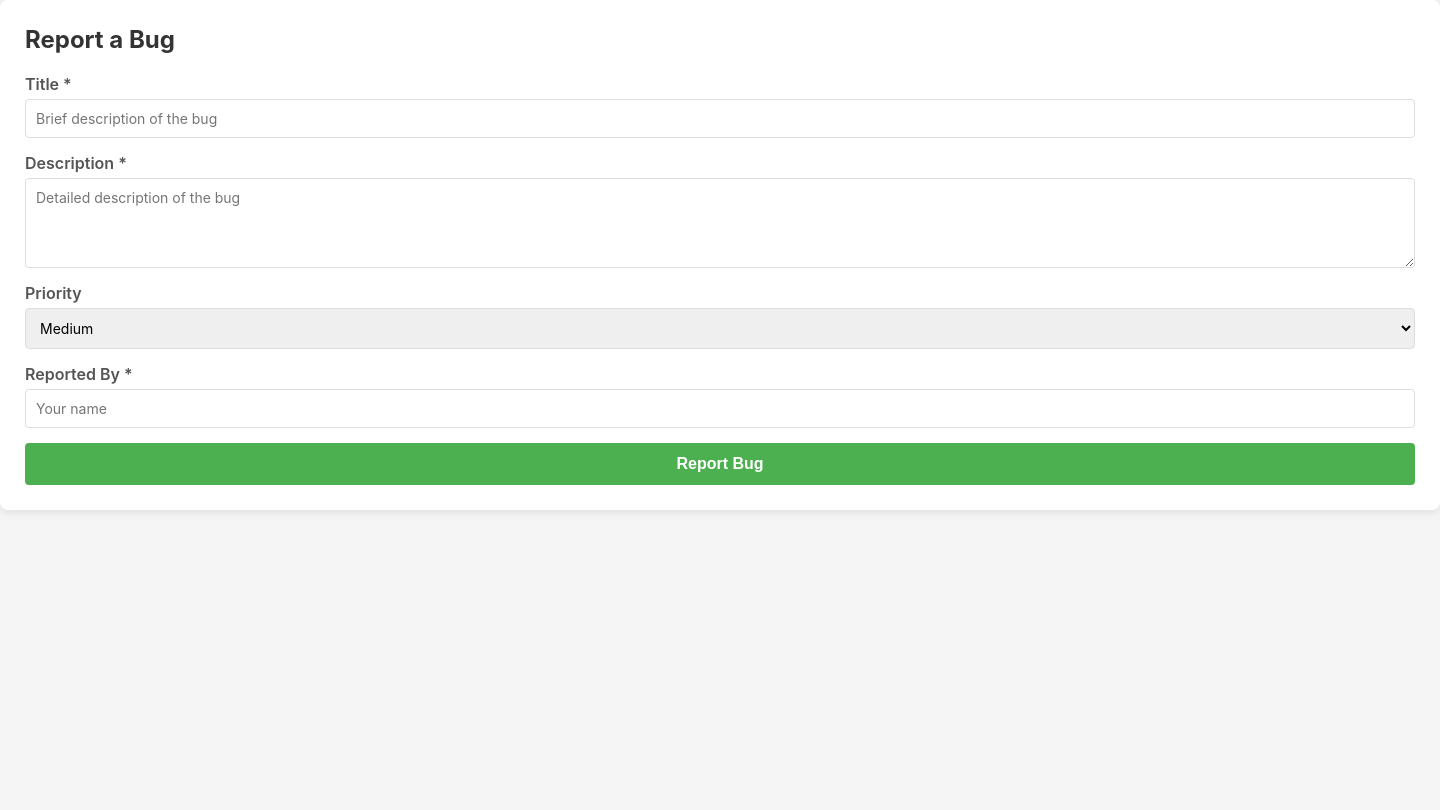
BugForm Component › shows validation errors for empty fields
Click the button "Report Bug" at (720, 464), box left=25, top=443, right=1415, bottom=485
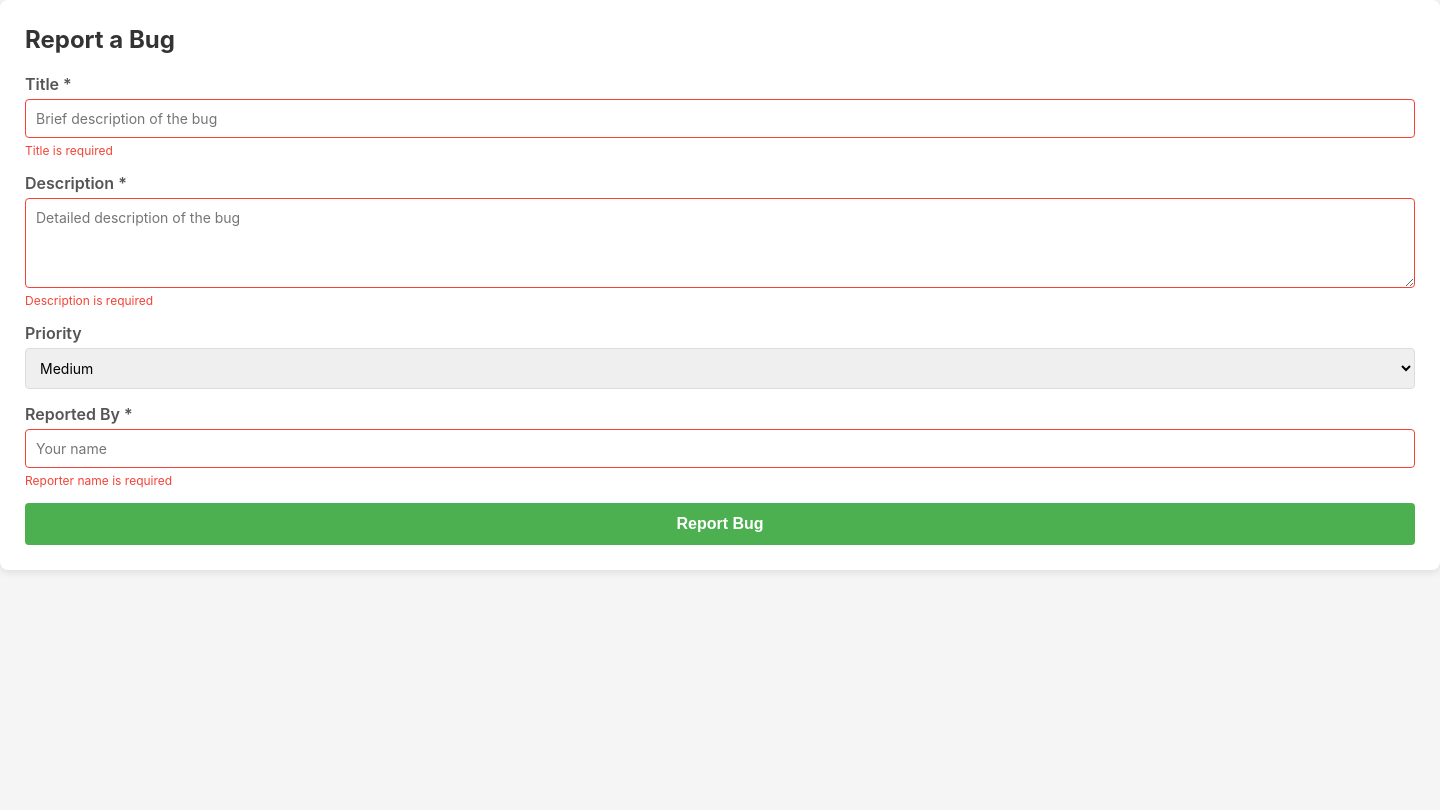
Result: the text "Title is required" is shown at left=25, top=143, right=113, bottom=158
Result: the text "Description is required" is shown at left=25, top=293, right=153, bottom=308
Result: the text "Reporter name is required" is shown at left=25, top=473, right=172, bottom=488
